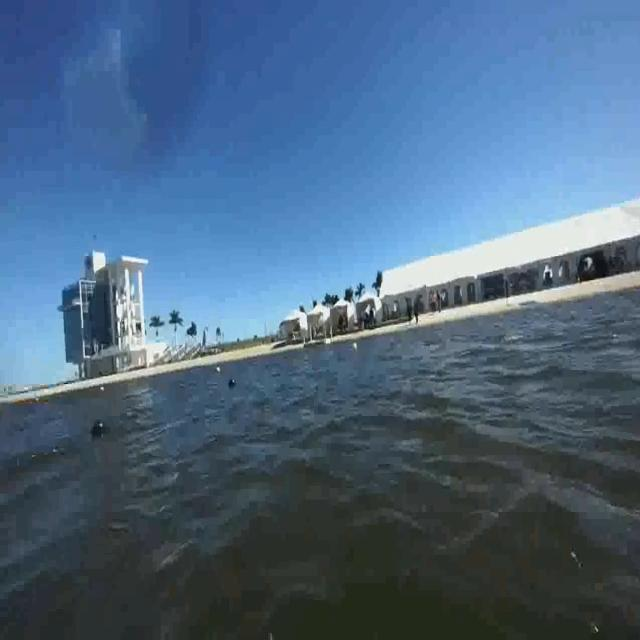black-buoy: (92, 413, 107, 444)
